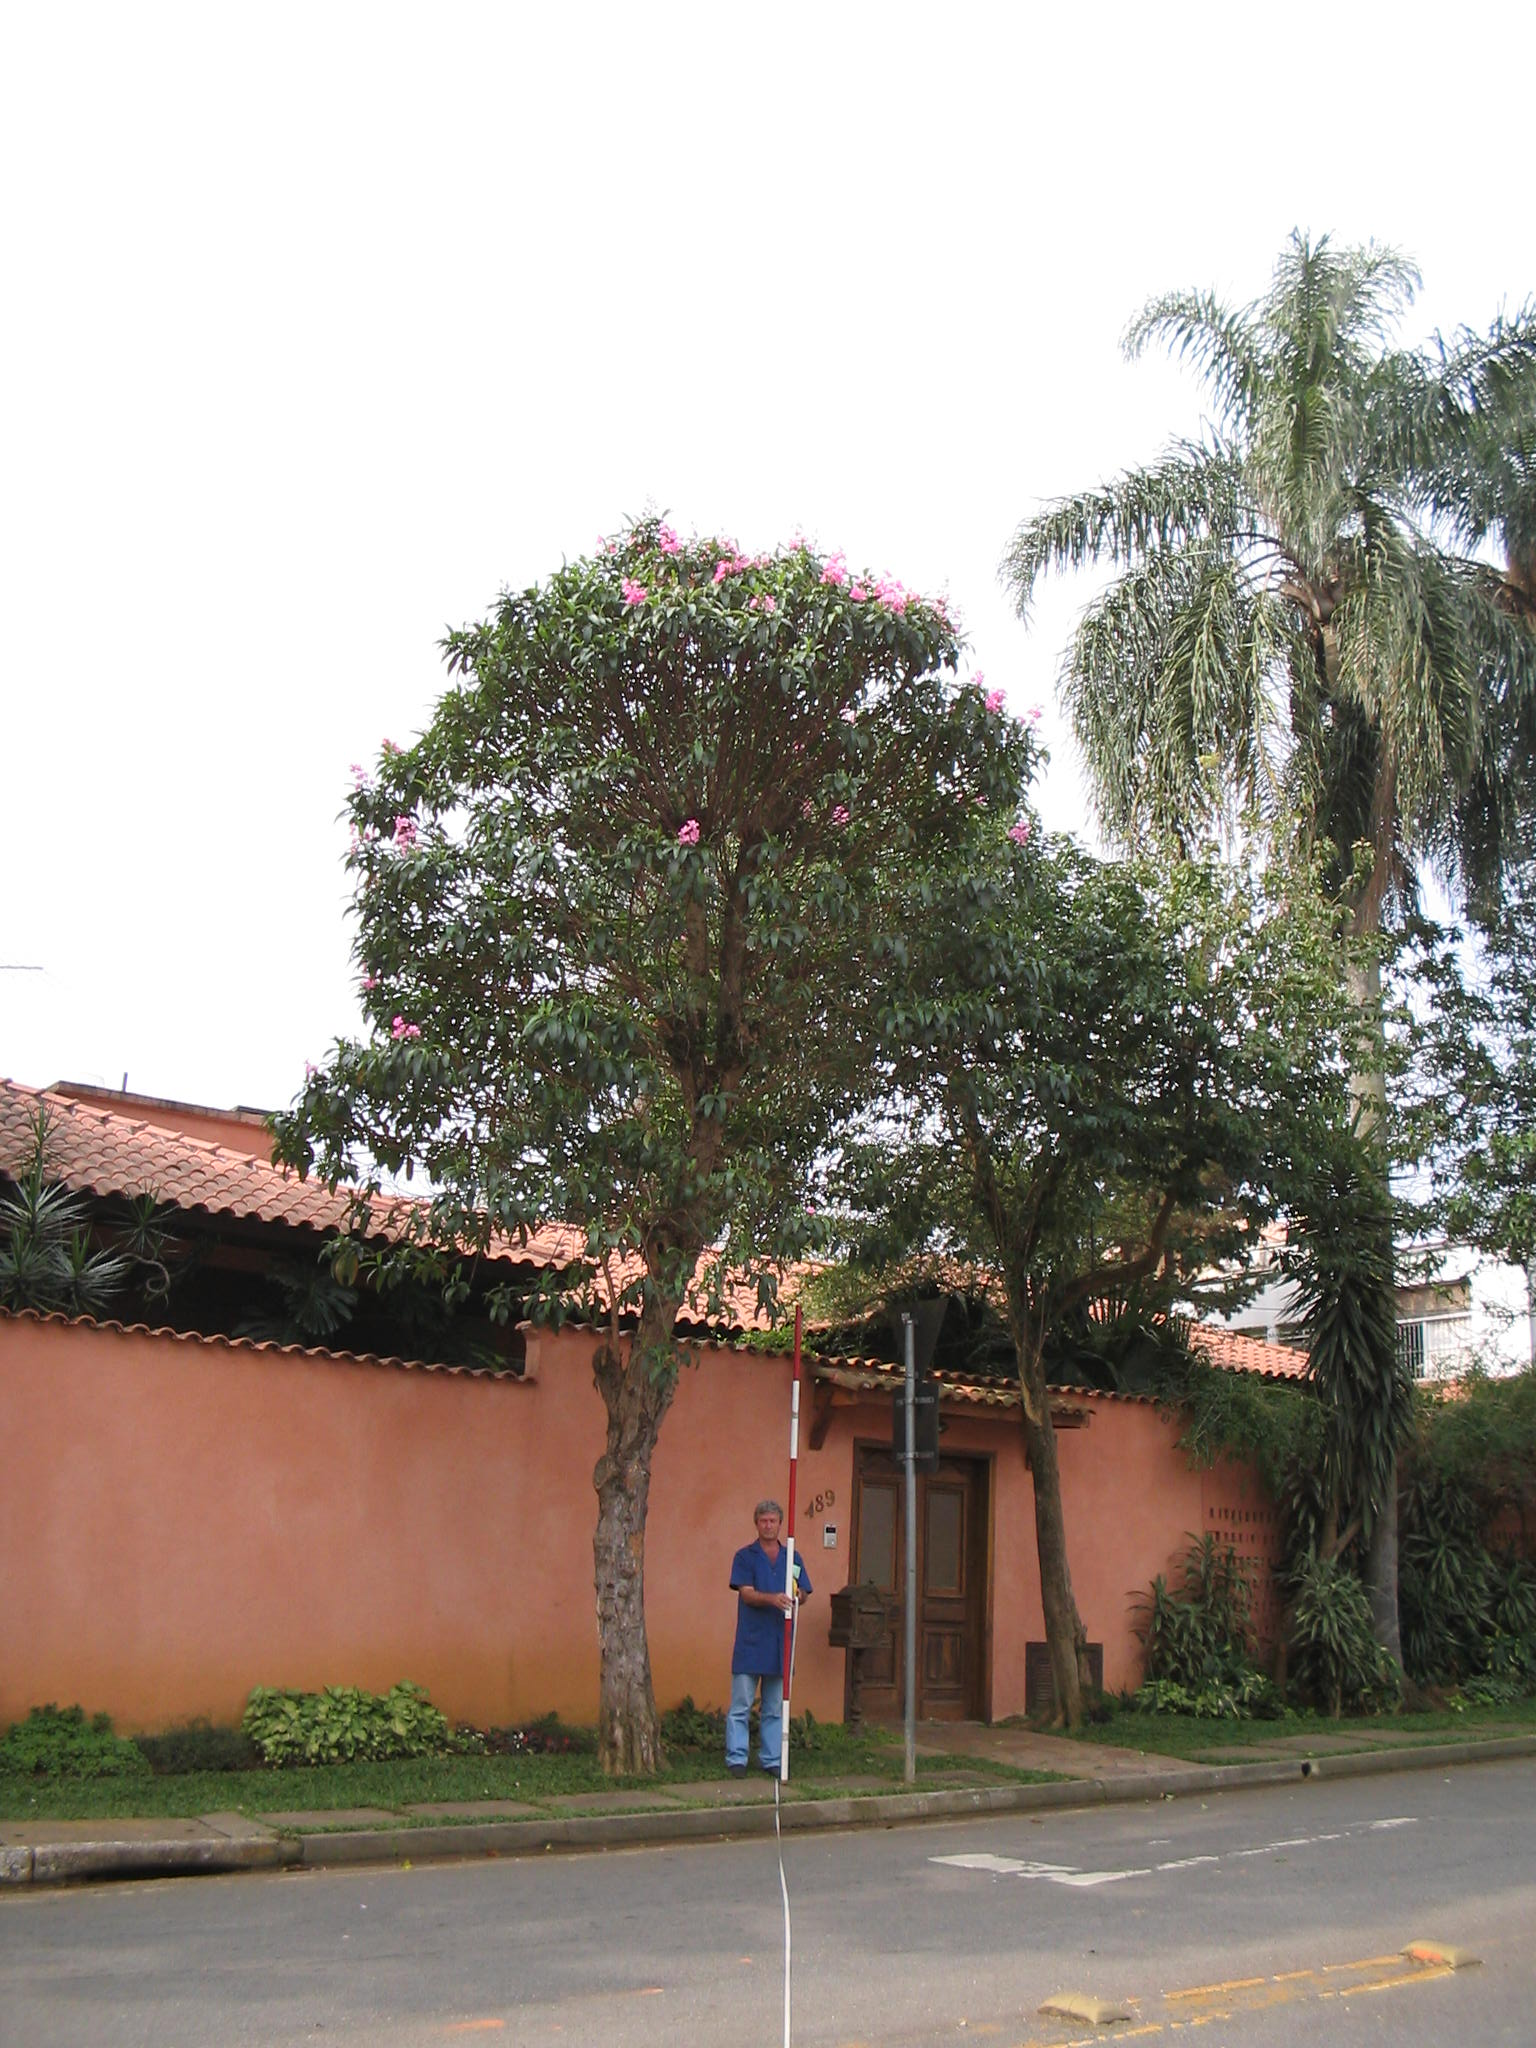crown: (265, 503, 1057, 1382), (916, 868, 1350, 1326)
stem: (979, 1340, 1128, 1724), (558, 1376, 694, 1779)
stick: (744, 1303, 833, 1784)
tree: (260, 497, 1065, 1787), (912, 863, 1359, 1725)
